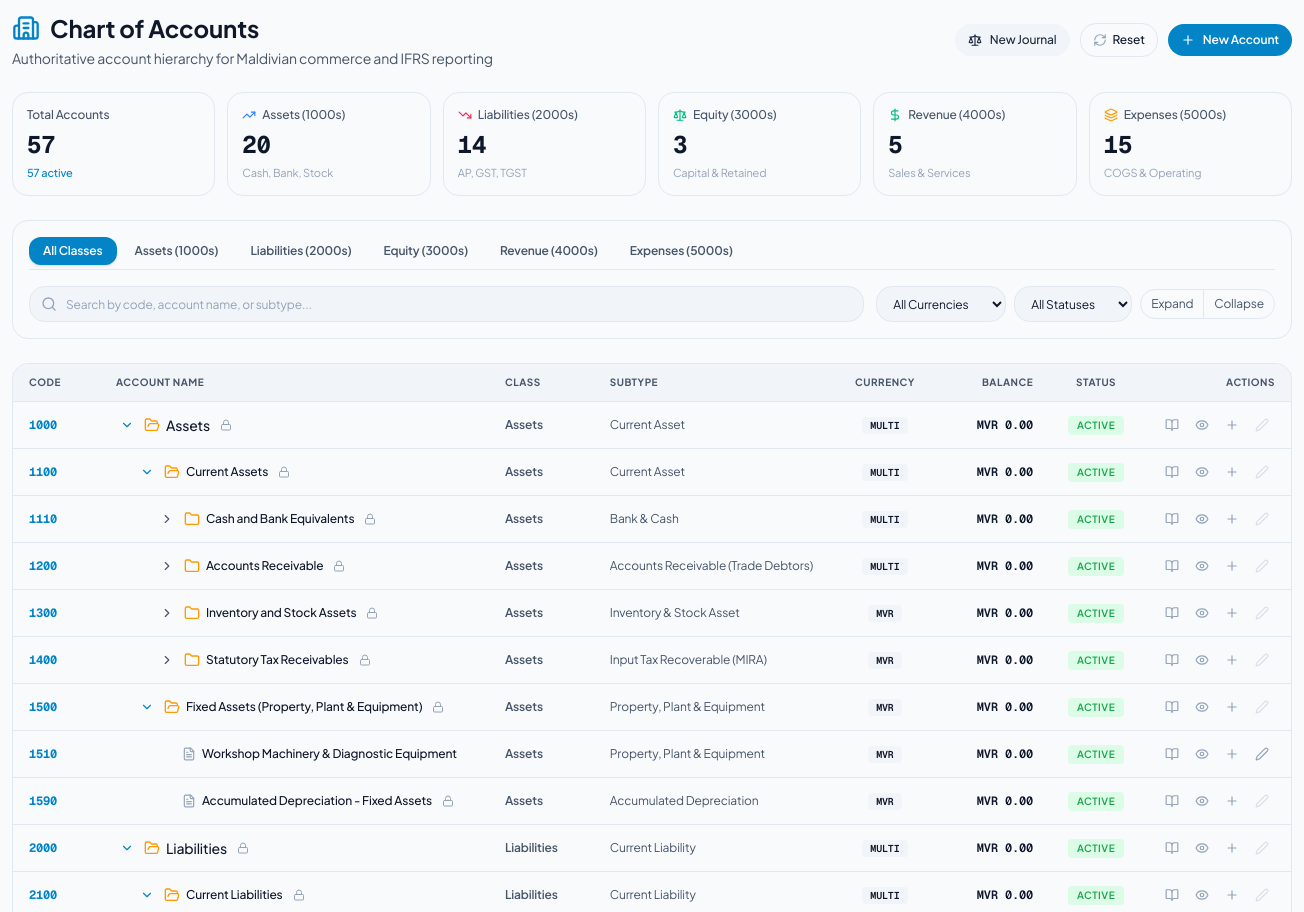
Scenario: AccountsView Component & Interactions › searches accounts by code and account name in real time
Type "1111" into the field with placeholder "Search by code, account name, or subtype..." at [447, 304], box [29,286,864,322]
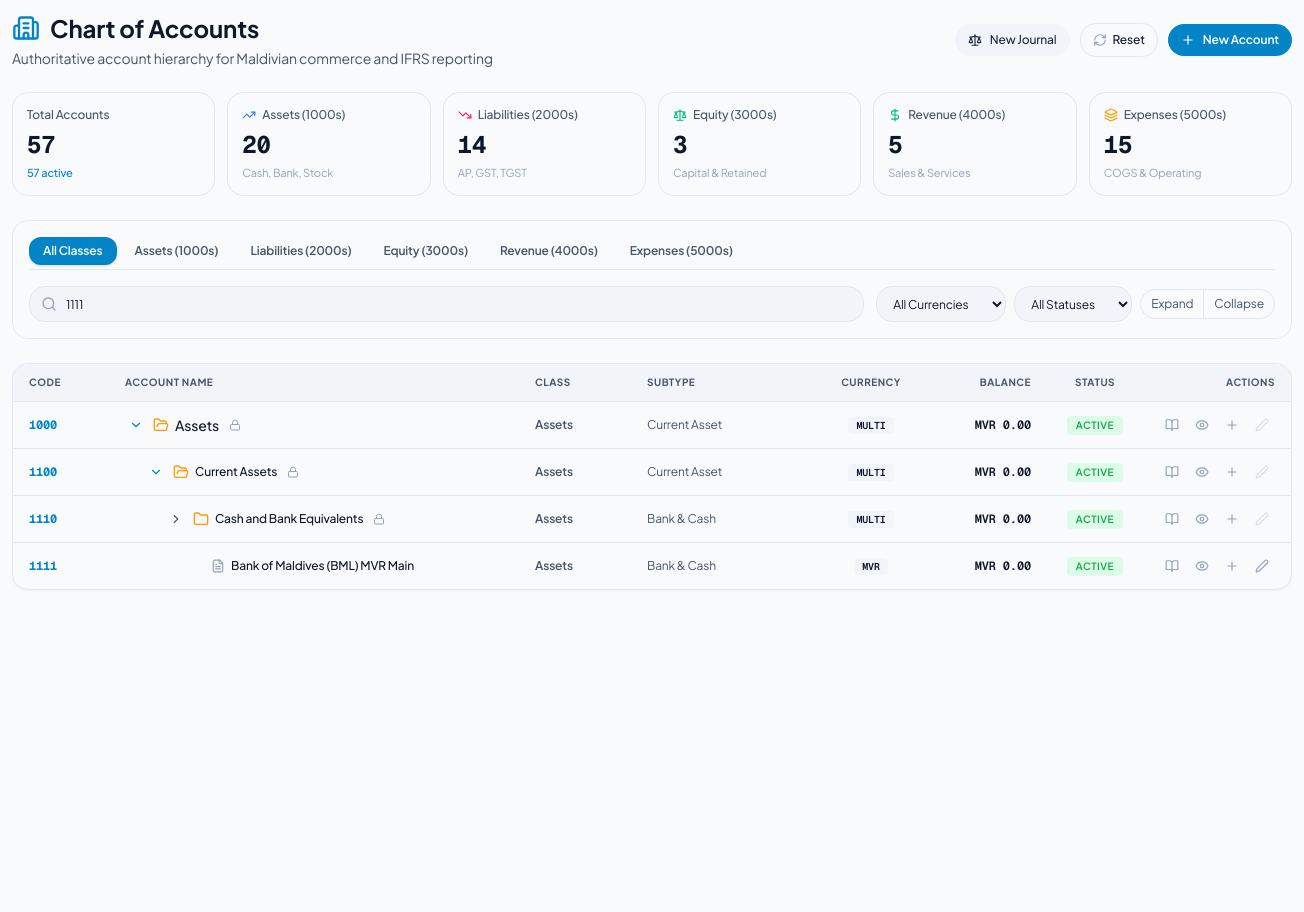
Check: the text "Bank of Maldives (BML) MVR Main" is shown, box [231,558,414,574]
